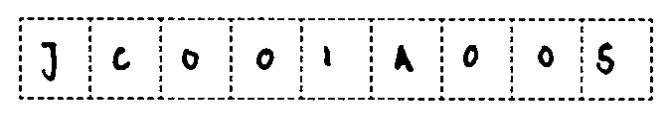0: (454, 39, 488, 73), (174, 41, 206, 77), (250, 42, 280, 76), (531, 38, 559, 74)
1: (312, 39, 340, 74)
5: (591, 36, 622, 82)
A: (387, 38, 420, 79)
C: (106, 42, 140, 74)
J: (32, 36, 66, 84)
